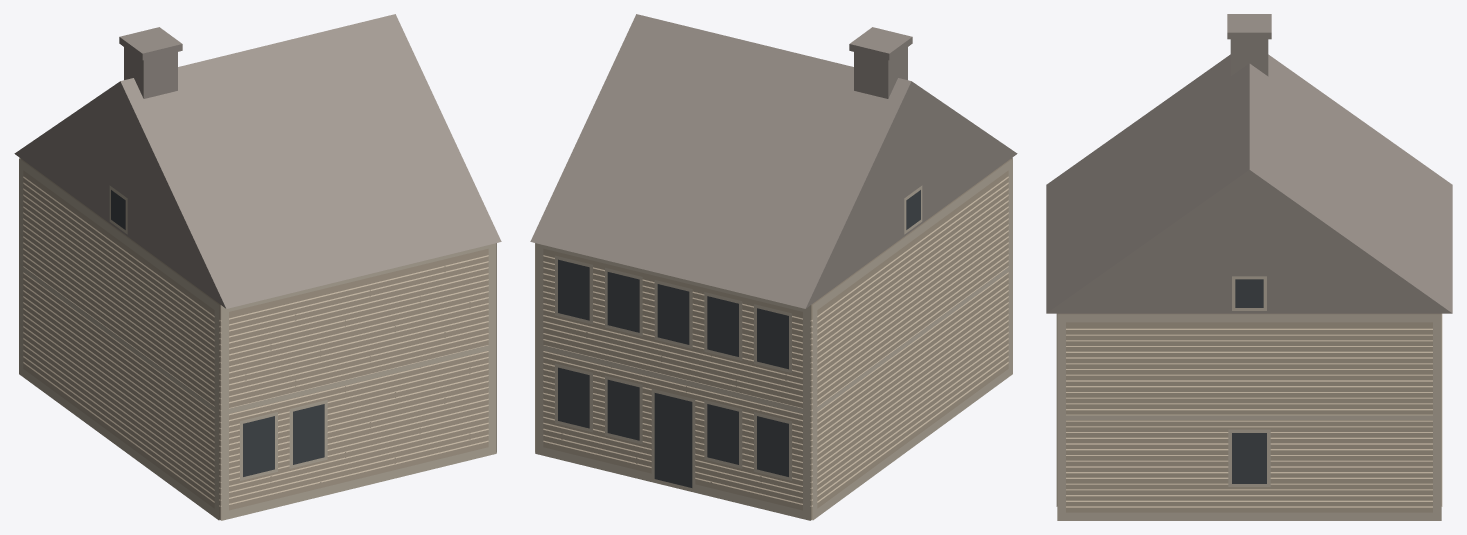
File: recon_1835_south_d7_035__inferred_1835.glb
3 views of the same model, side by side, from view 1: azimuth 30°, elevation 25°; view 2: azimuth 150°, elevation 25°; view 3: azimuth 270°, elevation 25° (orthographic). The views are drawn at different scales.
Visible parts, largest first — view 1: recon_1835_south_d7_035__inferred_1835; view 2: recon_1835_south_d7_035__inferred_1835; view 3: recon_1835_south_d7_035__inferred_1835.
Part boxes in pixels (<box>): recon_1835_south_d7_035__inferred_1835: <box>14,14,501,520</box>; recon_1835_south_d7_035__inferred_1835: <box>530,14,1017,520</box>; recon_1835_south_d7_035__inferred_1835: <box>1046,14,1452,520</box>.
Bounding box in the file's own units: 6.84 × 9.35 × 9.
